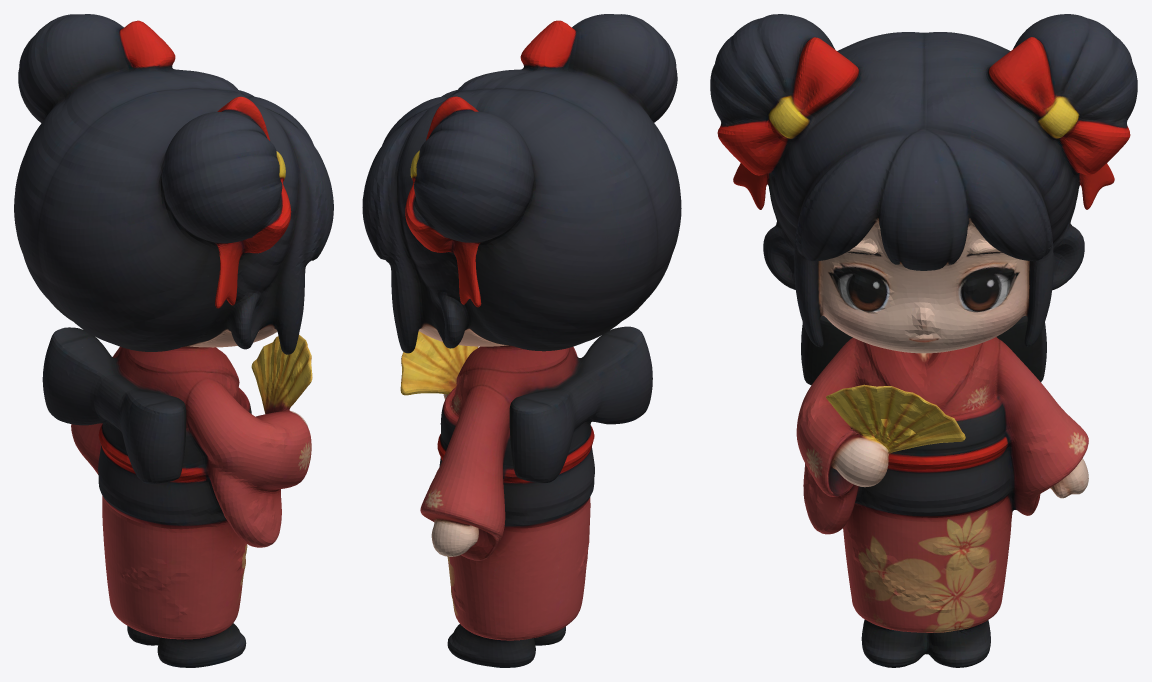
File: female-01.glb
The picture shows the model from 3 angles, left to right: view 1: azimuth 30°, elevation 25°; view 2: azimuth 150°, elevation 25°; view 3: azimuth 270°, elevation 25°; orthographic projection. The views are drawn at different scales.
Visible parts, largest first — view 1: tripo_node_f2e8921b-e55d-4a3d-aeb2-5ecaeb38c512; view 2: tripo_node_f2e8921b-e55d-4a3d-aeb2-5ecaeb38c512; view 3: tripo_node_f2e8921b-e55d-4a3d-aeb2-5ecaeb38c512.
Part boxes in pixels (x1,y1,x2,y2): tripo_node_f2e8921b-e55d-4a3d-aeb2-5ecaeb38c512: (14, 14, 333, 667); tripo_node_f2e8921b-e55d-4a3d-aeb2-5ecaeb38c512: (362, 14, 681, 667); tripo_node_f2e8921b-e55d-4a3d-aeb2-5ecaeb38c512: (710, 14, 1137, 667).
Bounding box in the file's own units: 0.4886 × 0.9996 × 0.6341.
Materials: 1 (1 with a texture image).
